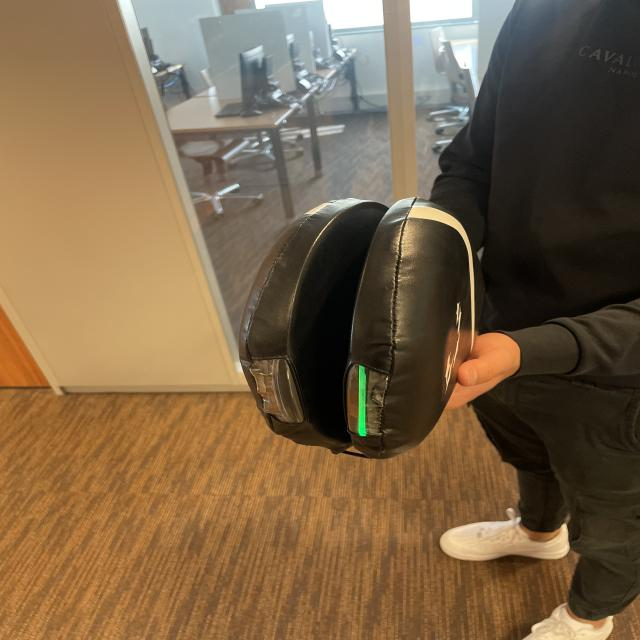paddle: (266, 198, 475, 460)
trigger: (348, 360, 378, 440)
